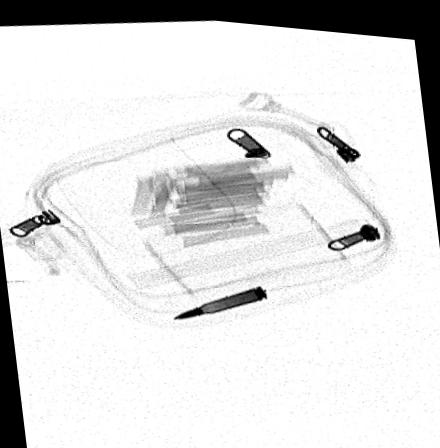Bullet: (167, 279, 270, 316)
